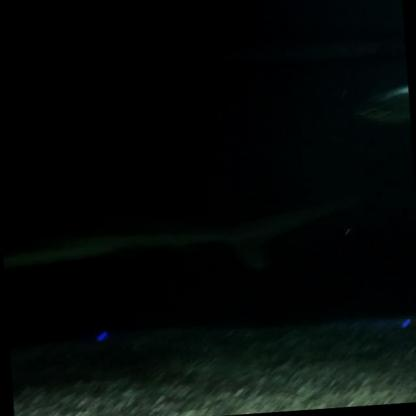fish: (353, 85, 411, 137)
shark: (0, 189, 383, 287)
